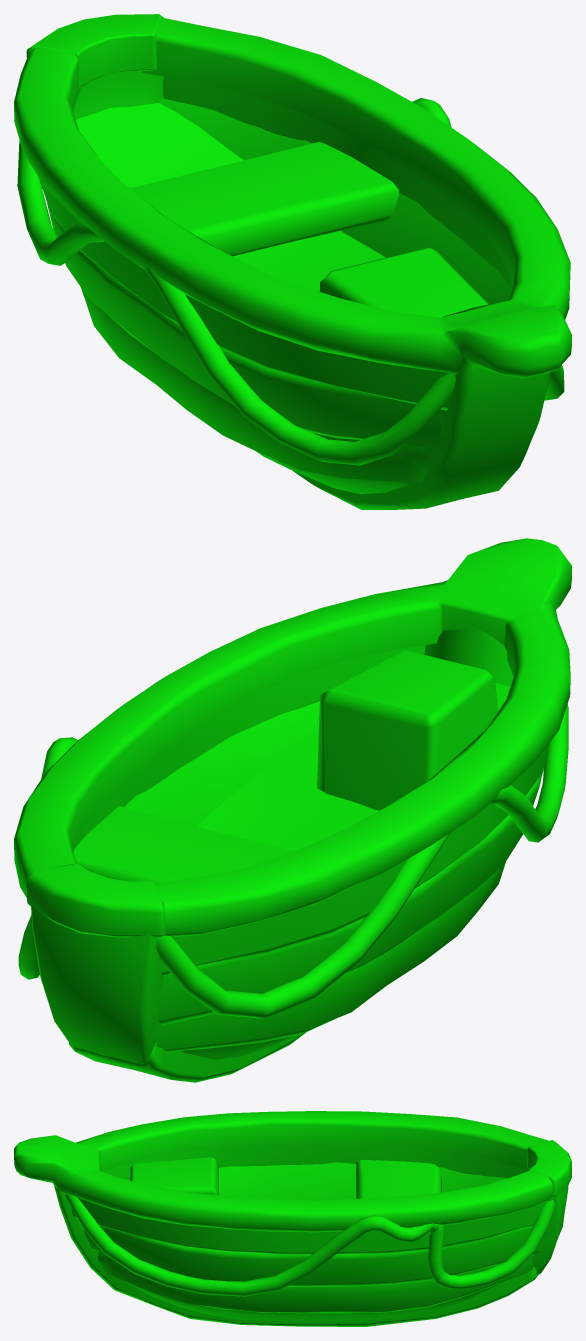
The model's file is BoatWashedUp.fbx.
3 renders of one model, top to bottom at view 1: azimuth 30°, elevation 25°; view 2: azimuth 150°, elevation 25°; view 3: azimuth 270°, elevation 25°, orthographic. The views are drawn at different scales.
Parts seen in each view (by area): view 1: Frame3_Low, Planks_Low, Planks3_Low, Seat_Low, Underframe_Low, Floor_Low, Rope2_Low, Planks1_Low, SailBase_Low, Frame2_Low, Back_Low, Planks2_Low (+1 smaller); view 2: Frame3_Low, Planks_Low, SailBase_Low, Planks3_Low, Back_Low, Rope2_Low, Planks1_Low, Seat_Low, Floor_Low, Frame2_Low, Underframe_Low, Rope_Low (+1 smaller); view 3: Frame3_Low, Planks_Low, Planks3_Low, Rope_Low, Planks1_Low, Underframe_Low, Seat_Low, SailBase_Low, Planks2_Low, Frame2_Low, Back_Low.
Part boxes in pixels (x1,y1,x2,y2): Frame3_Low: [14, 18, 571, 378]; Planks_Low: [46, 98, 511, 449]; Planks3_Low: [38, 76, 513, 410]; Seat_Low: [130, 142, 399, 256]; Underframe_Low: [292, 364, 550, 509]; Floor_Low: [76, 103, 385, 291]; Rope2_Low: [17, 141, 455, 465]; Planks1_Low: [81, 288, 429, 483]; SailBase_Low: [319, 248, 489, 317]; Frame2_Low: [26, 14, 163, 88]; Back_Low: [73, 71, 164, 119]; Planks2_Low: [256, 451, 409, 494]; Frame3_Low: [14, 538, 571, 937]; Planks_Low: [125, 701, 542, 1025]; SailBase_Low: [317, 650, 497, 810]; Planks3_Low: [75, 645, 548, 975]; Back_Low: [31, 905, 163, 1063]; Rope2_Low: [156, 704, 568, 1018]; Planks1_Low: [156, 862, 505, 1051]; Seat_Low: [73, 806, 295, 882]; Floor_Low: [198, 683, 510, 850]; Frame2_Low: [26, 863, 165, 938]; Underframe_Low: [69, 627, 513, 1082]; Rope_Low: [18, 737, 78, 979]; Frame3_Low: [14, 1111, 552, 1232]; Planks_Low: [84, 1162, 542, 1286]; Planks3_Low: [71, 1143, 547, 1254]; Rope_Low: [65, 1194, 555, 1296]; Planks1_Low: [97, 1250, 533, 1313]; Underframe_Low: [54, 1167, 538, 1326]; Seat_Low: [356, 1159, 441, 1198]; SailBase_Low: [130, 1157, 219, 1195]; Planks2_Low: [123, 1280, 503, 1321]; Frame2_Low: [527, 1140, 571, 1197]; Back_Low: [532, 1186, 568, 1274].
Bounding box in the file's own units: 0.5762 × 0.4182 × 1.24.
